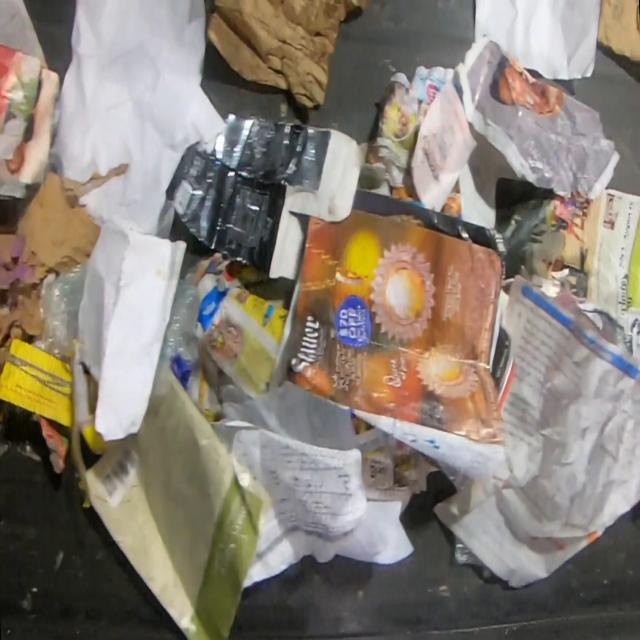cardboard: (164, 108, 372, 283), (0, 166, 128, 376), (72, 220, 187, 441), (0, 334, 110, 510), (206, 0, 367, 112), (596, 0, 640, 65)
soft_plastic: (38, 255, 89, 361), (160, 279, 202, 362)
